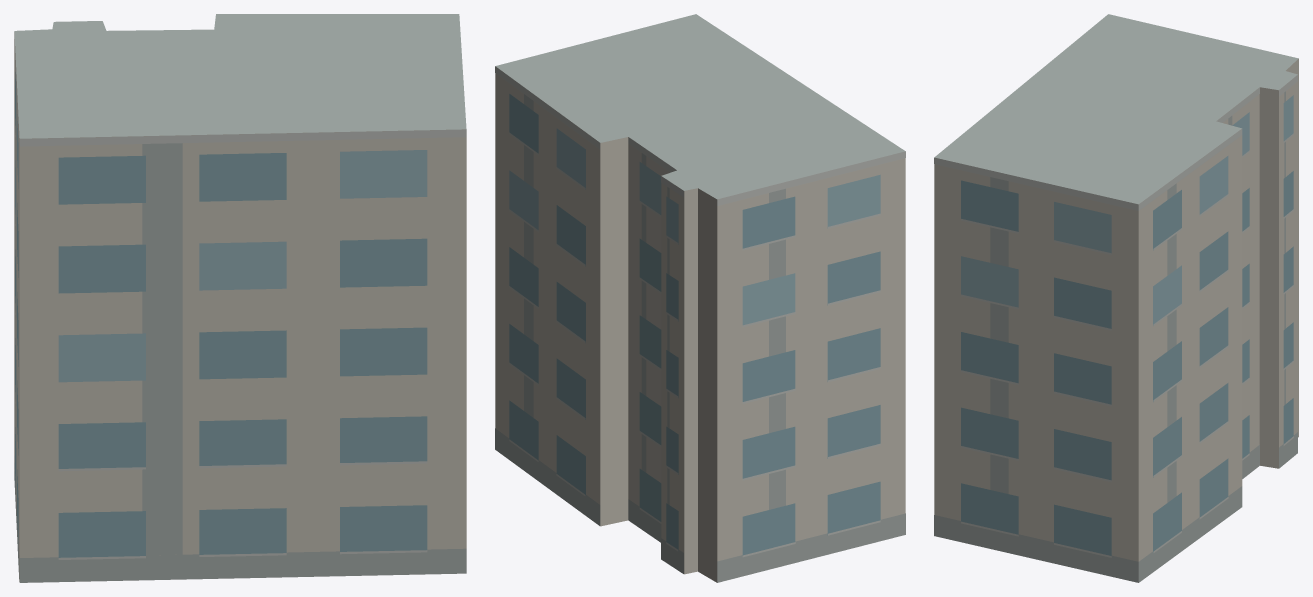
File: survey-upis-32727167.glb
The picture shows the model from 3 angles, left to right: view 1: azimuth 30°, elevation 25°; view 2: azimuth 150°, elevation 25°; view 3: azimuth 270°, elevation 25°; orthographic projection. The views are drawn at different scales.
Parts seen in each view (by area): view 1: survey-upis-32727167.tmp; view 2: survey-upis-32727167.tmp; view 3: survey-upis-32727167.tmp.
Part boxes in pixels (left/top/right/bottom): survey-upis-32727167.tmp: left=14, top=14, right=466, bottom=582; survey-upis-32727167.tmp: left=495, top=14, right=905, bottom=582; survey-upis-32727167.tmp: left=934, top=14, right=1298, bottom=582.
Size of the model in its own units: 14.89 by 13.8 by 12.05.
